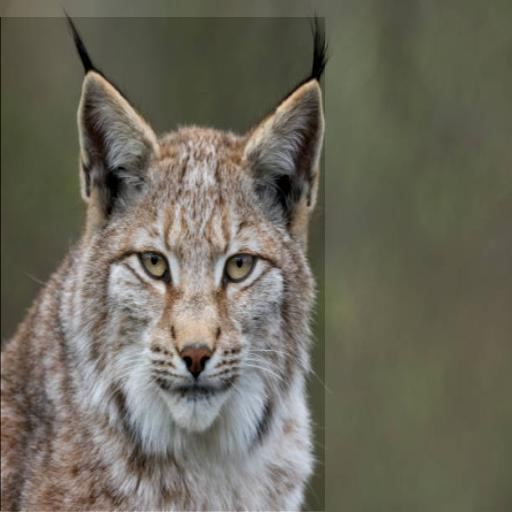lynx: (0, 17, 325, 511)
